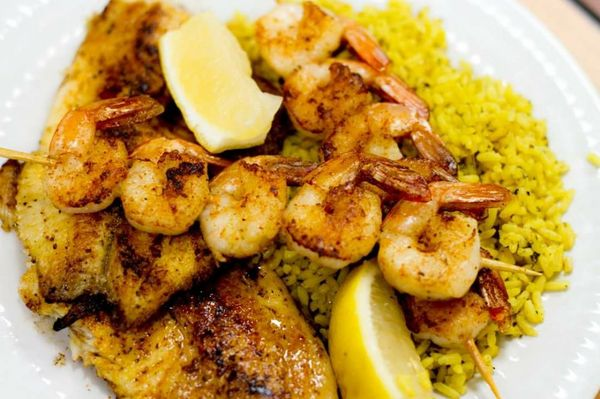pasta: (158, 12, 283, 155)
